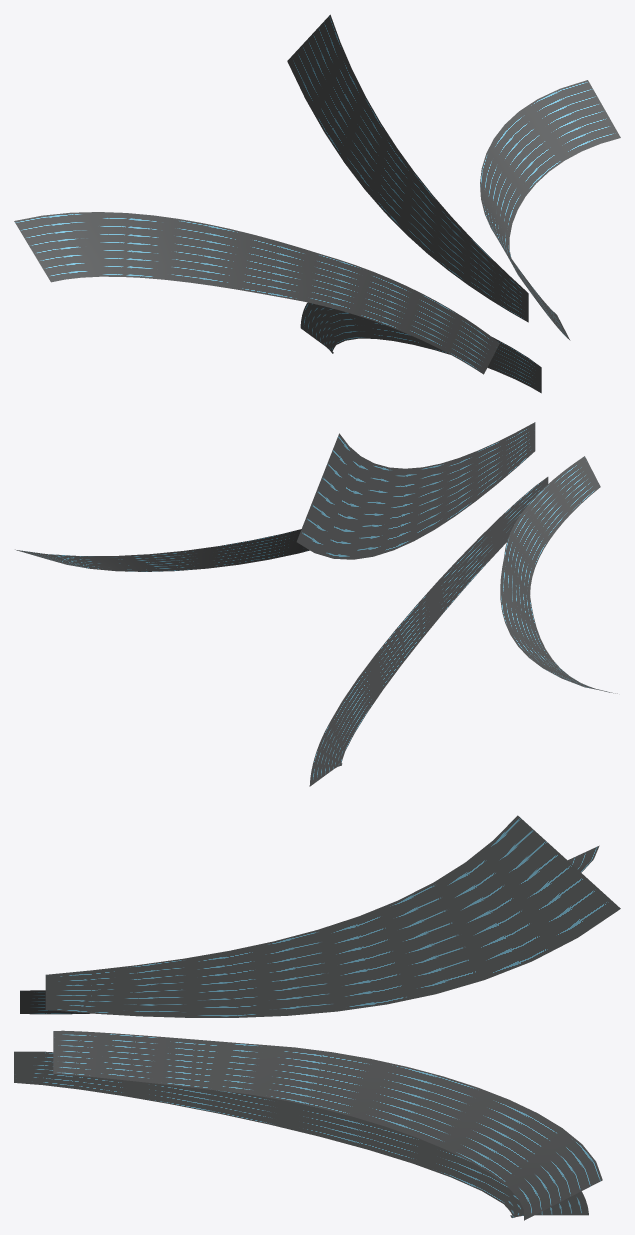
The model's file is vacuum_wind.glb.
3 renders of one model, top to bottom at view 1: azimuth 30°, elevation 25°; view 2: azimuth 150°, elevation 25°; view 3: azimuth 270°, elevation 25°, orthographic. The views are drawn at different scales.
Visible parts, largest first — view 1: BézierCurve; view 2: BézierCurve; view 3: BézierCurve.
Boxes of the visible parts, left/top/right/bottom form: BézierCurve: left=14, top=14, right=620, bottom=393; BézierCurve: left=15, top=422, right=617, bottom=786; BézierCurve: left=14, top=815, right=620, bottom=1220.
Bounding box in the file's own units: 3.91 × 2.2 × 3.
1 material, 1 textured.
